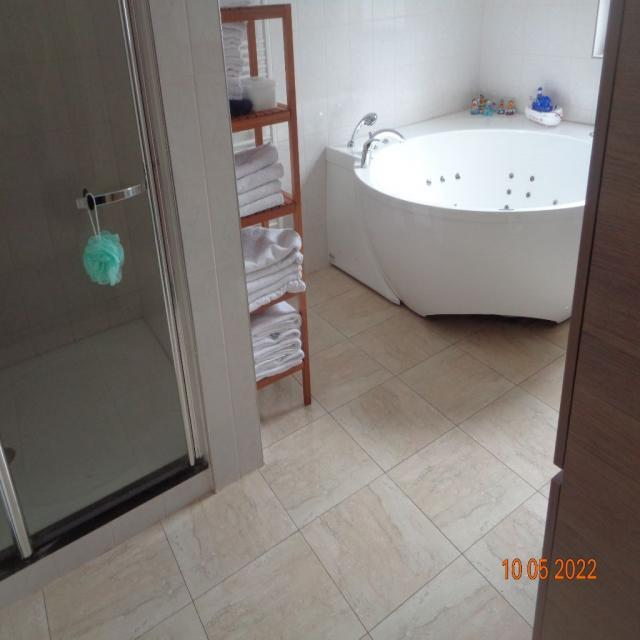bath: (326, 101, 596, 323)
douche: (0, 0, 263, 605)
